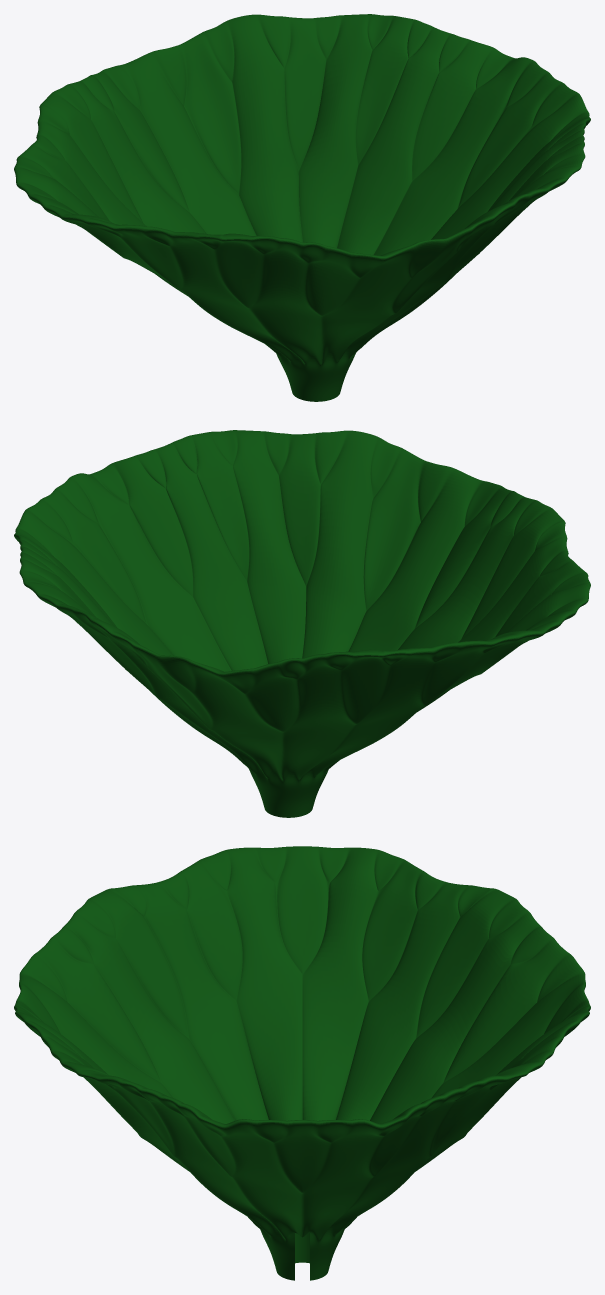
File: e_lotus_leaf_a.glb
3 views of the same model, one above another, from view 1: azimuth 30°, elevation 25°; view 2: azimuth 150°, elevation 25°; view 3: azimuth 270°, elevation 25° (orthographic). The views are drawn at different scales.
Parts seen in each view (by area): view 1: lotus_leaf_a; view 2: lotus_leaf_a; view 3: lotus_leaf_a.
Part boxes in pixels (left/top/right/bottom): lotus_leaf_a: left=14, top=14, right=590, bottom=401; lotus_leaf_a: left=14, top=430, right=590, bottom=817; lotus_leaf_a: left=14, top=846, right=590, bottom=1280.
Size of the model in its own units: 0.1258 by 0.0616 by 0.1126.
